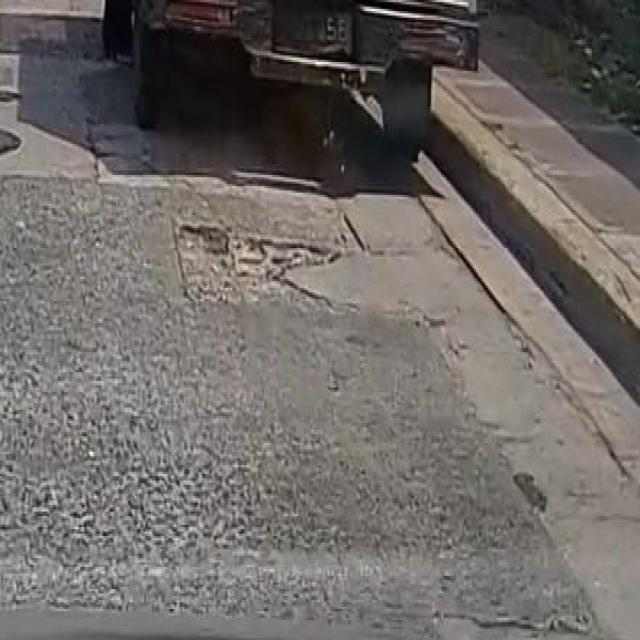Pothole: (166, 203, 343, 316)
